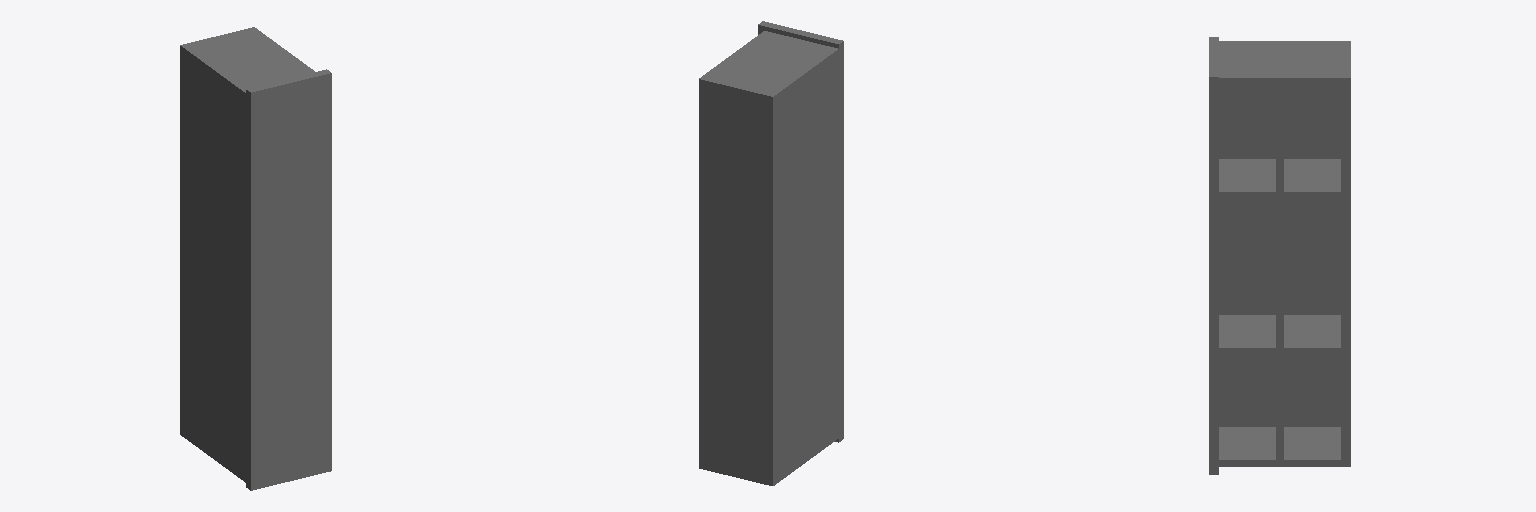
Rendered from shelf.obj.
3 renders of one model, left to right at view 1: azimuth 30°, elevation 25°; view 2: azimuth 150°, elevation 25°; view 3: azimuth 270°, elevation 25°, orthographic.
Visible parts, largest first — view 1: pasted__bookshelf pasted__bookshelf group; view 2: pasted__bookshelf pasted__bookshelf group; view 3: pasted__bookshelf pasted__bookshelf group.
Boxes of the visible parts, box(x1,y1,x2,y2) form: pasted__bookshelf pasted__bookshelf group: box(180, 27, 331, 490); pasted__bookshelf pasted__bookshelf group: box(699, 21, 843, 485); pasted__bookshelf pasted__bookshelf group: box(1209, 37, 1350, 474).
Bounding box in the file's own units: 4.35 × 20.44 × 6.6.